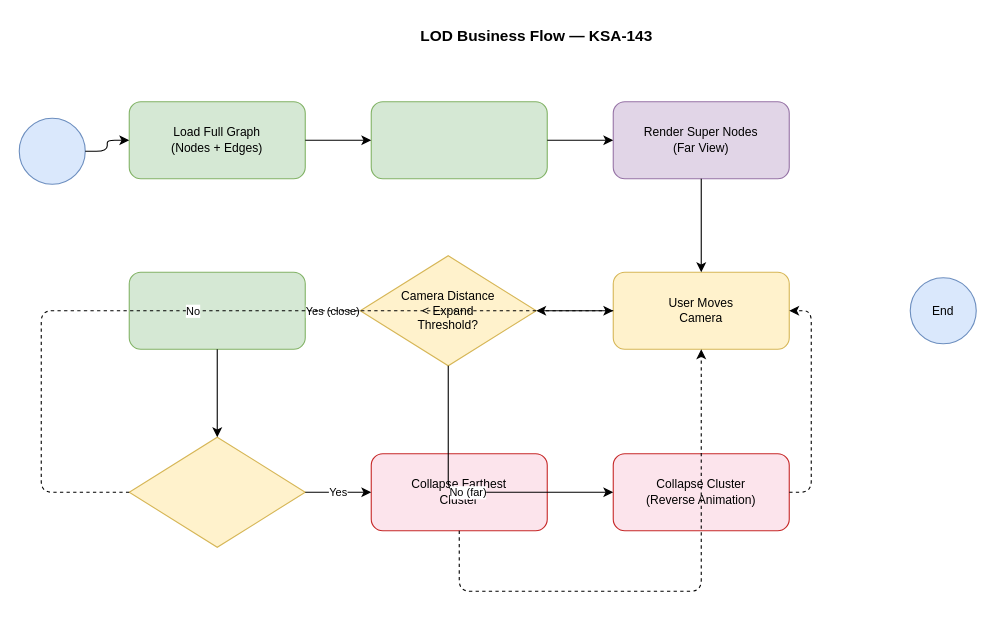
Some shapes in this 996 by 619 pixel diagram are drawn without their labels. Each missing label, with the centre of its shape:
Expand Cluster (Animate Children): (x=216, y=310)
Run Clustering Algorithm: (x=458, y=140)
Start: (x=51, y=150)
Visible Nodes > 100?: (x=216, y=491)
